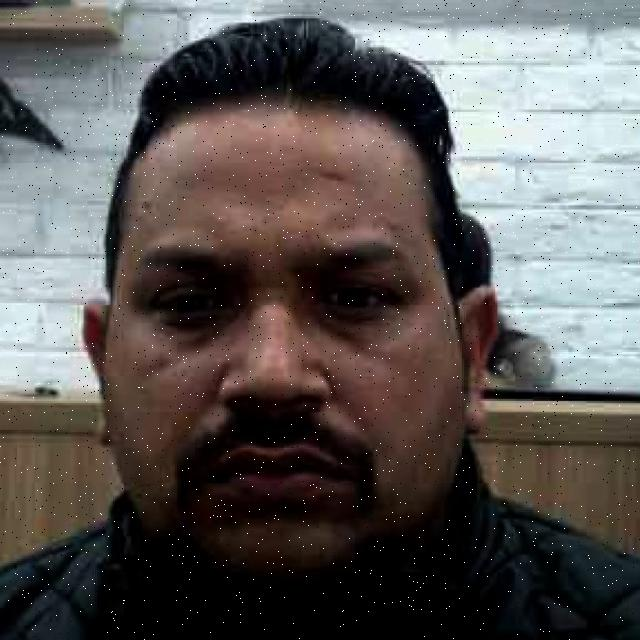puffy_eyes: (154, 301, 254, 349), (308, 307, 415, 347)
